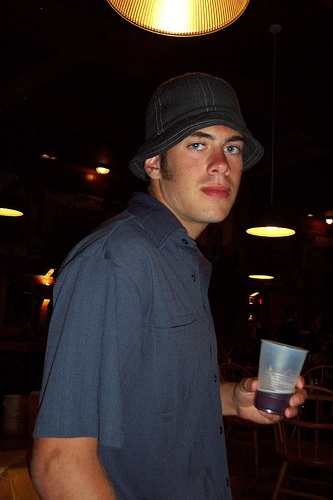person: (25, 71, 304, 500)
person/hand: (233, 372, 304, 425)
person/head: (142, 93, 256, 229)
